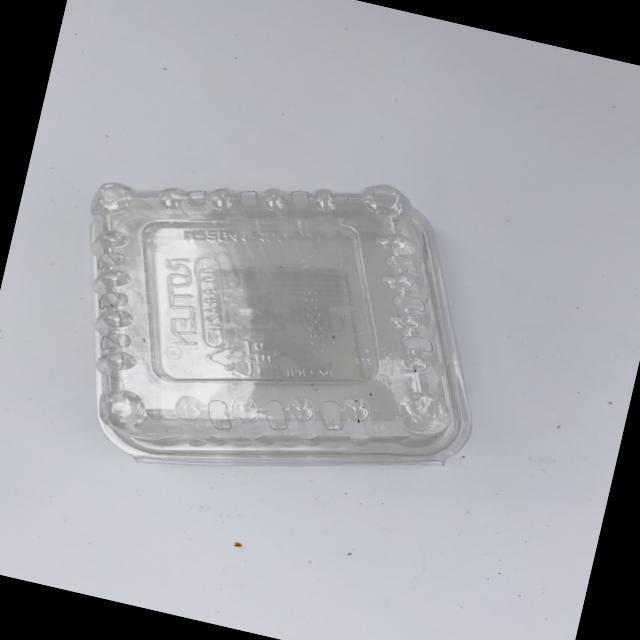Plastic: (26, 108, 531, 536)
